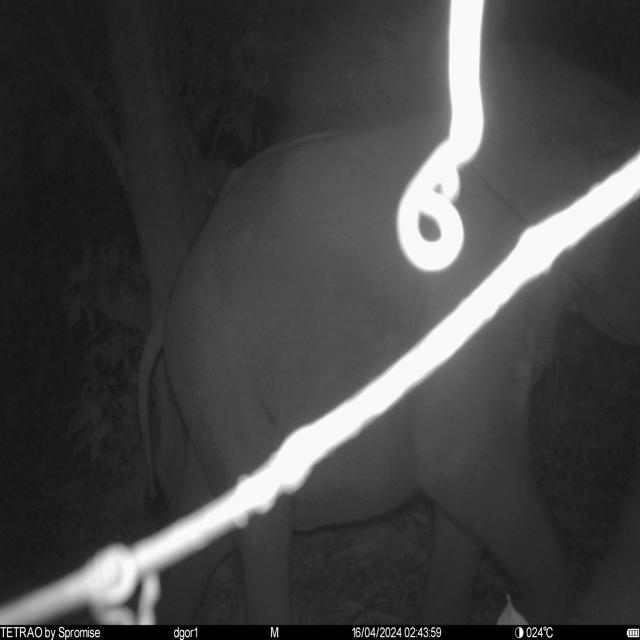calf: (136, 40, 640, 626)
ear: (470, 41, 638, 293)
